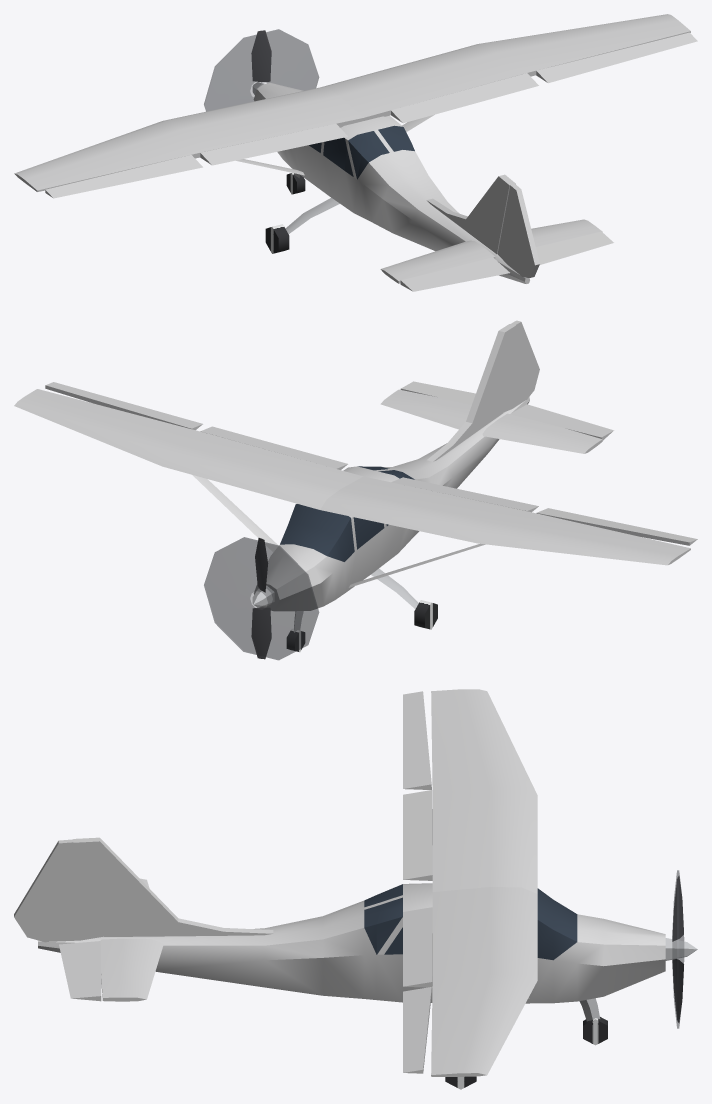
Rendered from Cessna_172_LOD2.glb.
The picture shows the model from 3 angles, top to bottom: view 1: azimuth 30°, elevation 25°; view 2: azimuth 150°, elevation 25°; view 3: azimuth 270°, elevation 25°; orthographic projection. The views are drawn at different scales.
Parts seen in each view (by area): view 1: Fuselage, Wing_Right, Wing_Left, Propeller_Disc, Elevator, Rudder, VerticalTail, Flap_Right, Flap_Left, Aileron_Right, HorizontalTail_Left, Aileron_Left (+4 smaller); view 2: Fuselage, Wing_Right, Wing_Left, Propeller_Disc, VerticalTail, HorizontalTail_Left, Elevator, HorizontalTail_Right, Rudder, Aileron_Right, Propeller, Aileron_Left (+4 smaller); view 3: Fuselage, Wing_Left, Wing_Right, VerticalTail, Rudder, HorizontalTail_Right, Flap_Left, Aileron_Left, Flap_Right, Elevator, Aileron_Right, Propeller_Disc (+1 smaller).
Boxes of the visible parts, x1,y1,x2,y2 form: Fuselage: [253, 83, 529, 283]; Wing_Right: [321, 14, 690, 120]; Wing_Left: [14, 87, 363, 191]; Propeller_Disc: [204, 29, 319, 111]; Elevator: [400, 231, 613, 291]; Rudder: [497, 184, 539, 277]; VerticalTail: [426, 174, 515, 254]; Flap_Right: [391, 73, 538, 123]; Flap_Left: [200, 124, 347, 165]; Aileron_Right: [536, 32, 697, 83]; HorizontalTail_Left: [380, 240, 495, 283]; Aileron_Left: [45, 155, 202, 198]; Fuselage: [253, 397, 529, 611]; Wing_Right: [14, 389, 363, 509]; Wing_Left: [320, 476, 690, 565]; Propeller_Disc: [204, 537, 319, 660]; VerticalTail: [427, 324, 515, 461]; HorizontalTail_Left: [482, 413, 602, 453]; Elevator: [400, 381, 613, 440]; HorizontalTail_Right: [380, 389, 471, 429]; Rudder: [503, 320, 539, 412]; Aileron_Right: [45, 382, 202, 430]; Propeller: [251, 538, 271, 659]; Aileron_Left: [536, 508, 697, 545]; Fuselage: [38, 883, 665, 1003]; Wing_Left: [431, 689, 537, 893]; Wing_Right: [431, 887, 537, 1076]; VerticalTail: [73, 837, 273, 936]; Rudder: [14, 839, 103, 942]; HorizontalTail_Right: [100, 938, 163, 1001]; Flap_Left: [403, 790, 432, 880]; Aileron_Left: [403, 691, 431, 789]; Flap_Right: [403, 907, 432, 987]; Elevator: [59, 941, 101, 1001]; Aileron_Right: [403, 987, 431, 1073]; Propeller_Disc: [672, 870, 684, 1028].
Bounding box in the file's own units: 11 × 2.72 × 8.28.
6 materials, 1 textured.
